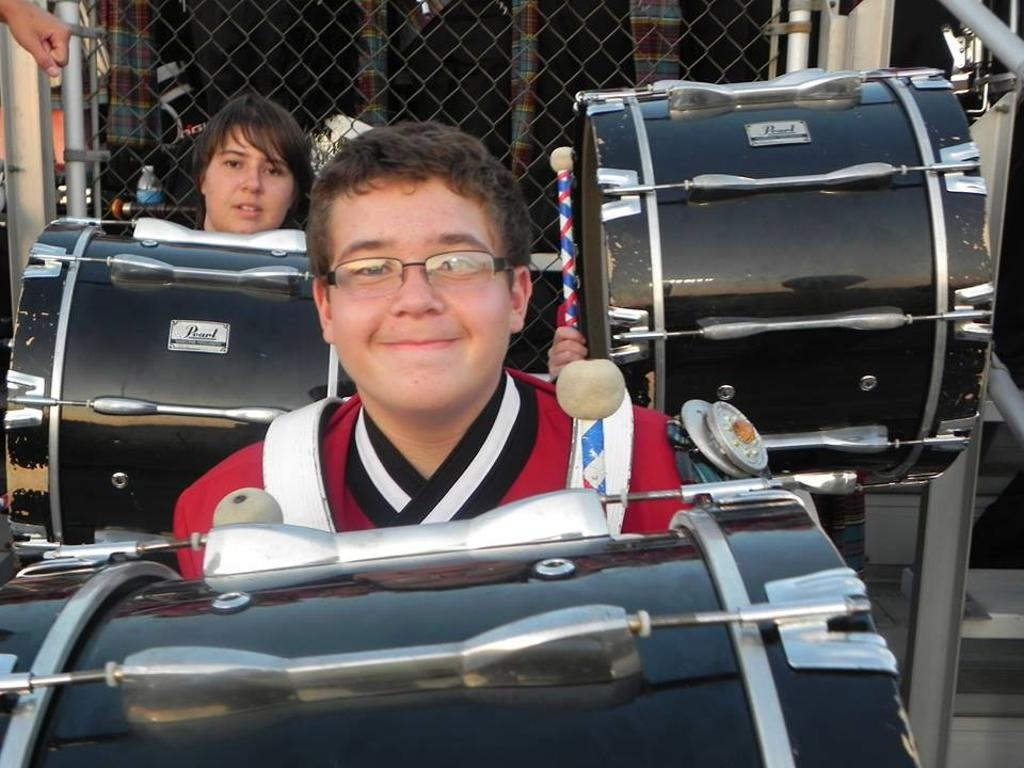human_face: (330, 182, 512, 408), (206, 122, 294, 232)
